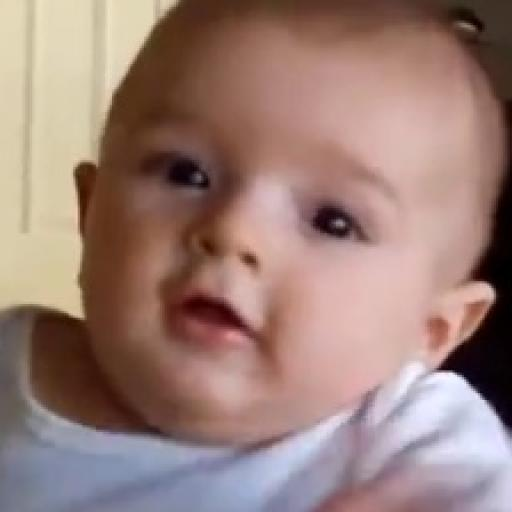Autism: (77, 9, 512, 457)
